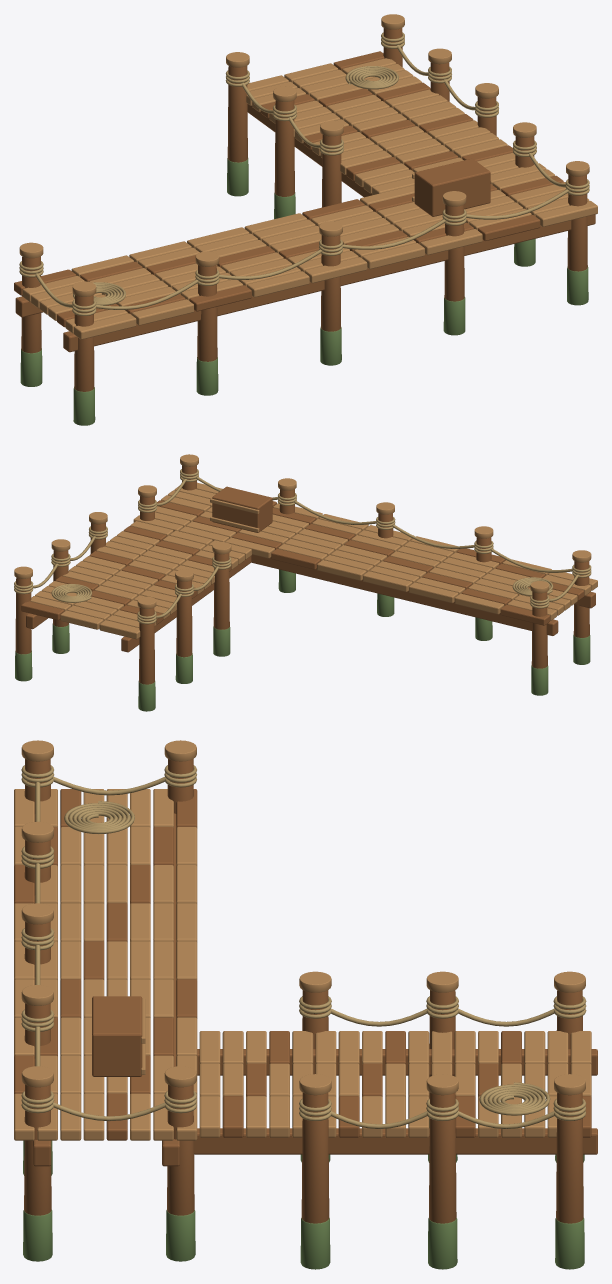
Rendered from dock.fbx.
3 renders of one model, top to bottom at view 1: azimuth 30°, elevation 25°; view 2: azimuth 150°, elevation 25°; view 3: azimuth 270°, elevation 25°, orthographic. The views are drawn at different scales.
Parts seen in each view (by area): view 1: dock • Timber • cut end, dock • Timber • warm oak, dock • Rope • flax, dock • Moss • damp tidal wood; view 2: dock • Timber • cut end, dock • Timber • warm oak, dock • Rope • flax, dock • Moss • damp tidal wood; view 3: dock • Timber • cut end, dock • Timber • warm oak, dock • Rope • flax, dock • Moss • damp tidal wood.
Part boxes in pixels (<box>): dock • Timber • cut end: <box>19,14,597,339</box>; dock • Timber • warm oak: <box>14,28,595,391</box>; dock • Rope • flax: <box>19,32,589,315</box>; dock • Moss • damp tidal wood: <box>20,158,588,425</box>; dock • Timber • cut end: <box>14,454,597,639</box>; dock • Timber • warm oak: <box>15,465,595,684</box>; dock • Rope • flax: <box>14,469,591,624</box>; dock • Moss • damp tidal wood: <box>15,569,590,711</box>; dock • Timber • cut end: <box>14,740,591,1140</box>; dock • Timber • warm oak: <box>14,759,597,1223</box>; dock • Rope • flax: <box>21,765,586,1128</box>; dock • Moss • damp tidal wood: <box>23,1118,584,1269</box>.
Size of the model in its own units: 11.12 by 2.7 by 7.8.
